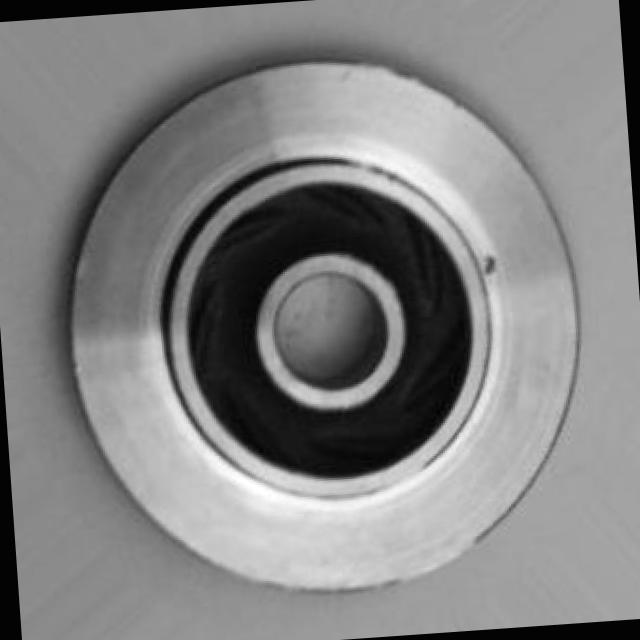Defect: (480, 250, 506, 298)
